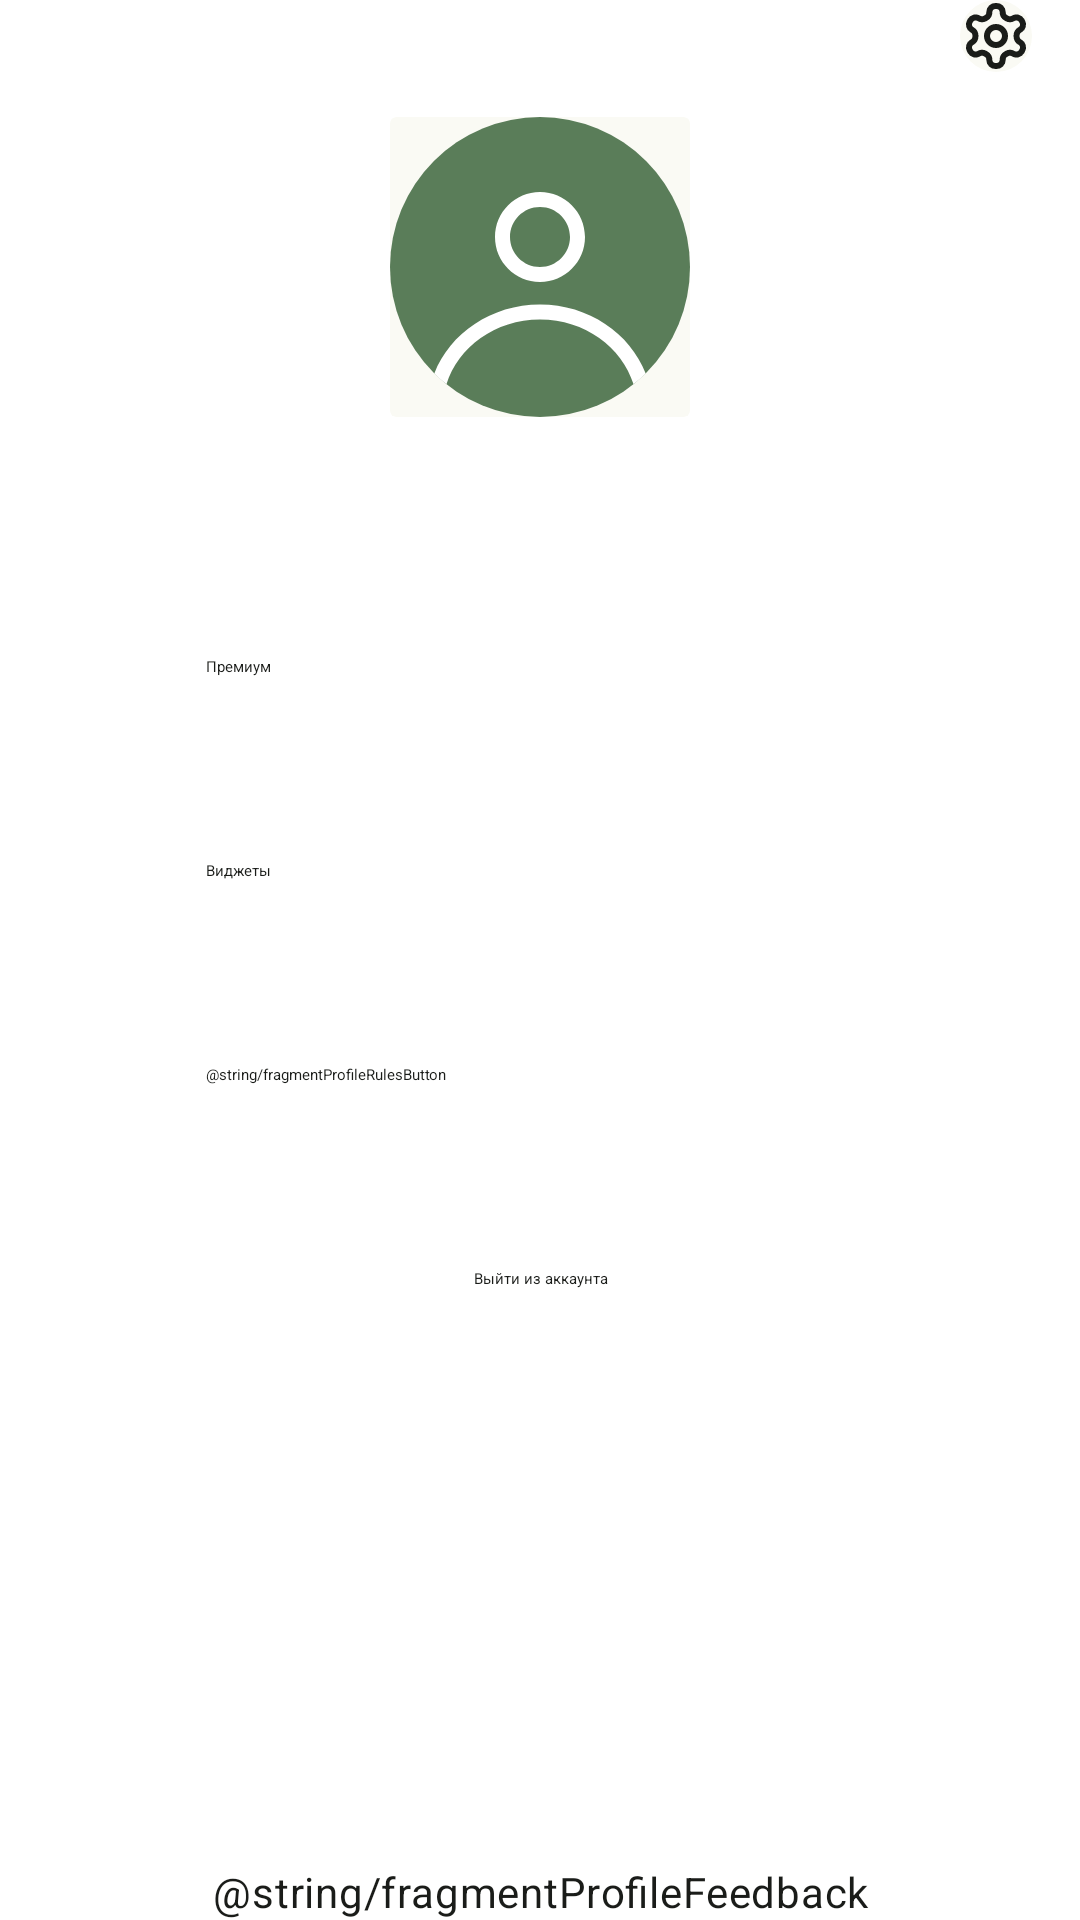

Where to tap for icons on this 1080px x 1920px app screen, as (x=x, y=y):
Иконка настроек: (x=996, y=36)
Пустая иконка профиля: (x=540, y=267)
